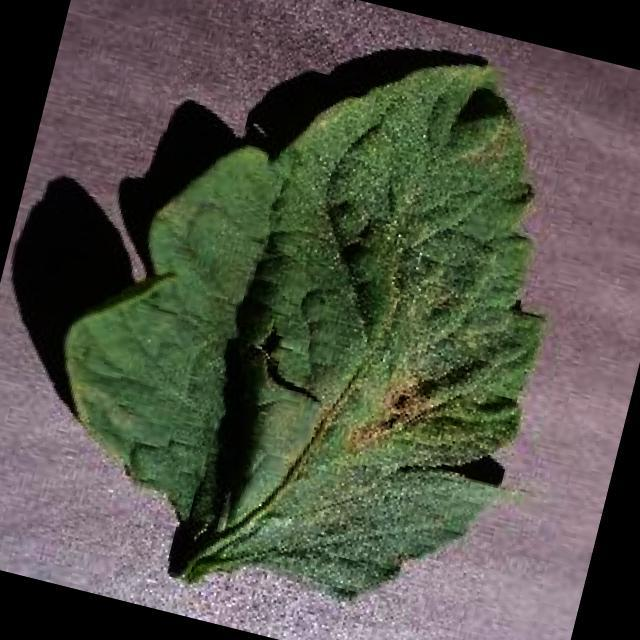Tomato Early blight leaf: (13, 0, 613, 635)
